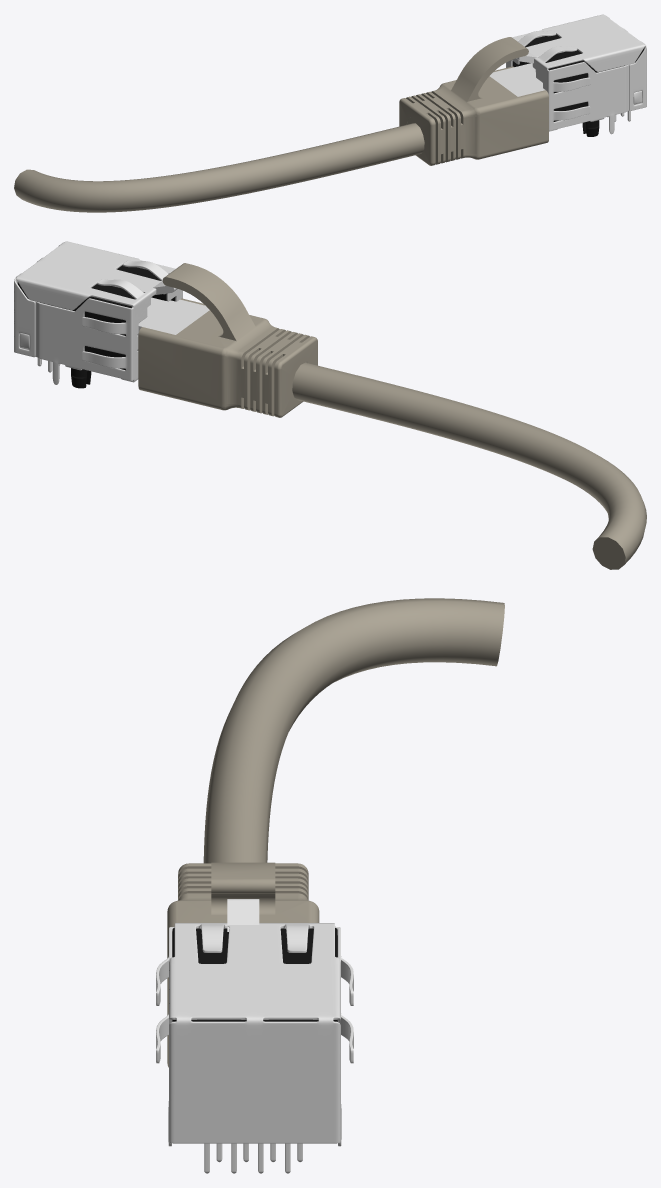
File: Kabel RJ45 Lengkap.fbx
3 renders of one model, top to bottom at view 1: azimuth 30°, elevation 25°; view 2: azimuth 150°, elevation 25°; view 3: azimuth 270°, elevation 25°, orthographic. The views are drawn at different scales.
Visible parts, largest first — view 1: Cable.001, Kabel RJ45, Ethernet Female.001; view 2: Kabel RJ45, Cable.001, Ethernet Female.001; view 3: Ethernet Female.001, Cable.001, Kabel RJ45.
Part boxes in pixels (x1=…): Cable.001: x1=14, y1=123, x2=424, y2=212; Kabel RJ45: x1=399, y1=37, x2=548, y2=165; Ethernet Female.001: x1=506, y1=14, x2=646, y2=136; Kabel RJ45: x1=137, y1=263, x2=317, y2=417; Cable.001: x1=292, y1=362, x2=646, y2=569; Ethernet Female.001: x1=14, y1=241, x2=182, y2=388; Ethernet Female.001: x1=156, y1=923, x2=353, y2=1173; Cable.001: x1=203, y1=598, x2=504, y2=863; Kabel RJ45: x1=167, y1=862, x2=319, y2=1067.
Bounding box in the file's own units: 595 × 103 × 163.
